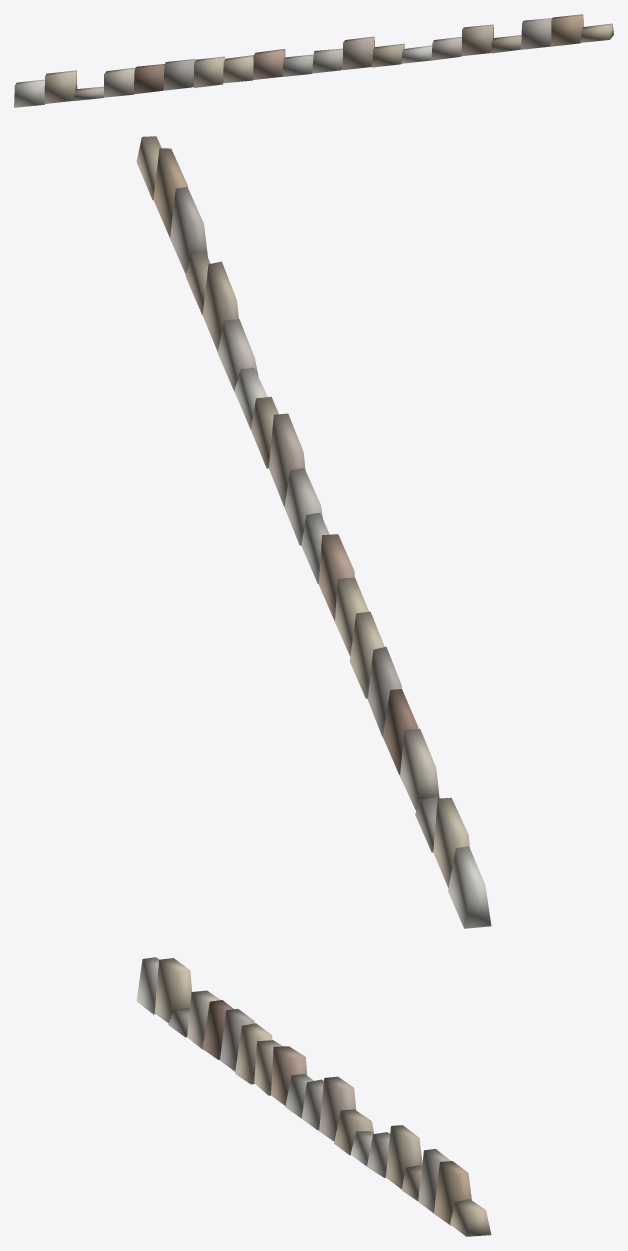
Rendered from farm_-23_-26_far.glb.
3 renders of one model, top to bottom at view 1: azimuth 30°, elevation 25°; view 2: azimuth 150°, elevation 25°; view 3: azimuth 330°, elevation 25°, orthographic. The views are drawn at different scales.
Visible parts, largest first — view 1: geometry_0; view 2: geometry_0; view 3: geometry_0.
Boxes of the visible parts, <box> form: geometry_0: <box>14,14,613,107</box>; geometry_0: <box>136,136,491,928</box>; geometry_0: <box>136,957,491,1236</box>.
Size of the model in its own units: 23.22 by 8.65 by 22.79.
